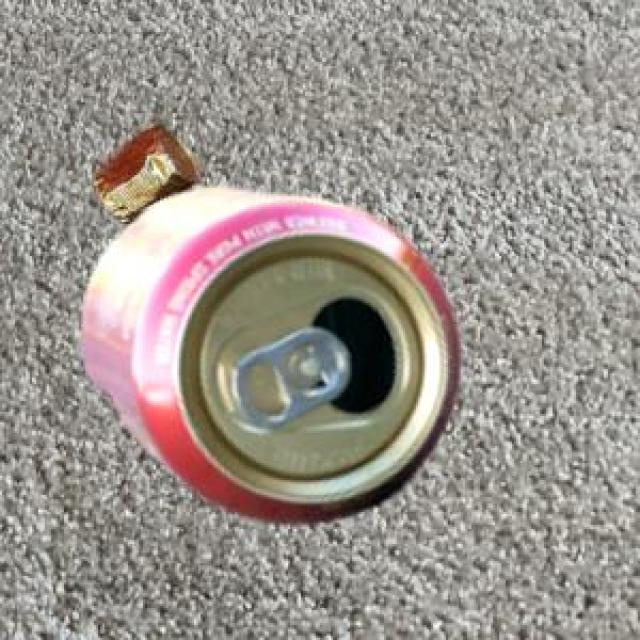logam: (78, 185, 458, 519), (91, 123, 197, 221)
